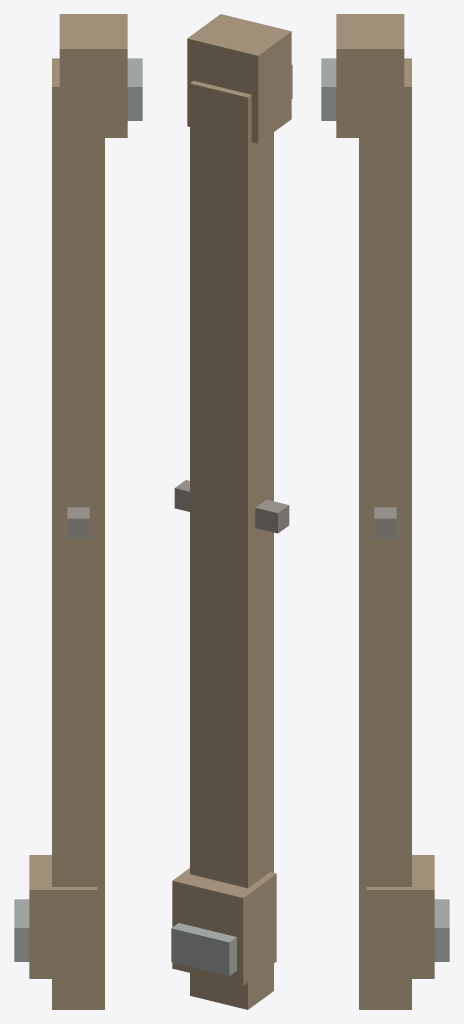
The model's file is trench-line-1917-trench-periscope-c6807072__24099.glb.
3 renders of one model, left to right at view 1: azimuth 90°, elevation 25°; view 2: azimuth 150°, elevation 25°; view 3: azimuth 270°, elevation 25°, orthographic.
Visible parts, largest first — view 1: trench-periscope; view 2: trench-periscope; view 3: trench-periscope.
Boxes of the visible parts, box(x1,y1,x2,y2) form: trench-periscope: box(14, 14, 142, 1009); trench-periscope: box(171, 14, 292, 1009); trench-periscope: box(321, 14, 449, 1009).
Bounding box in the file's own units: 0.16 × 1.41 × 0.17.
